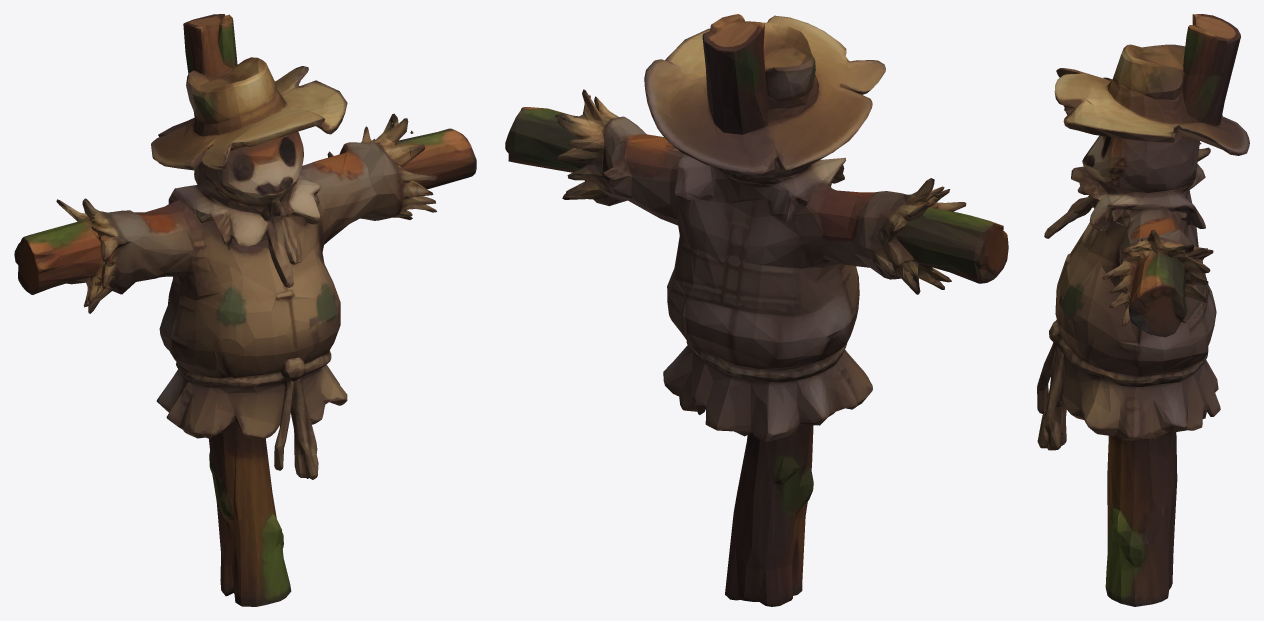
The model's file is scarecrow.glb.
The picture shows the model from 3 angles, left to right: view 1: azimuth 30°, elevation 25°; view 2: azimuth 150°, elevation 25°; view 3: azimuth 270°, elevation 25°; orthographic projection. The views are drawn at different scales.
Visible parts, largest first — view 1: world; view 2: world; view 3: world.
Boxes of the visible parts, <box> form: world: <box>14,14,476,606</box>; world: <box>505,14,1008,606</box>; world: <box>1037,14,1249,606</box>.
Size of the model in its own units: 0.829 by 0.9943 by 0.3404.
Materials: 1 (1 with a texture image).
